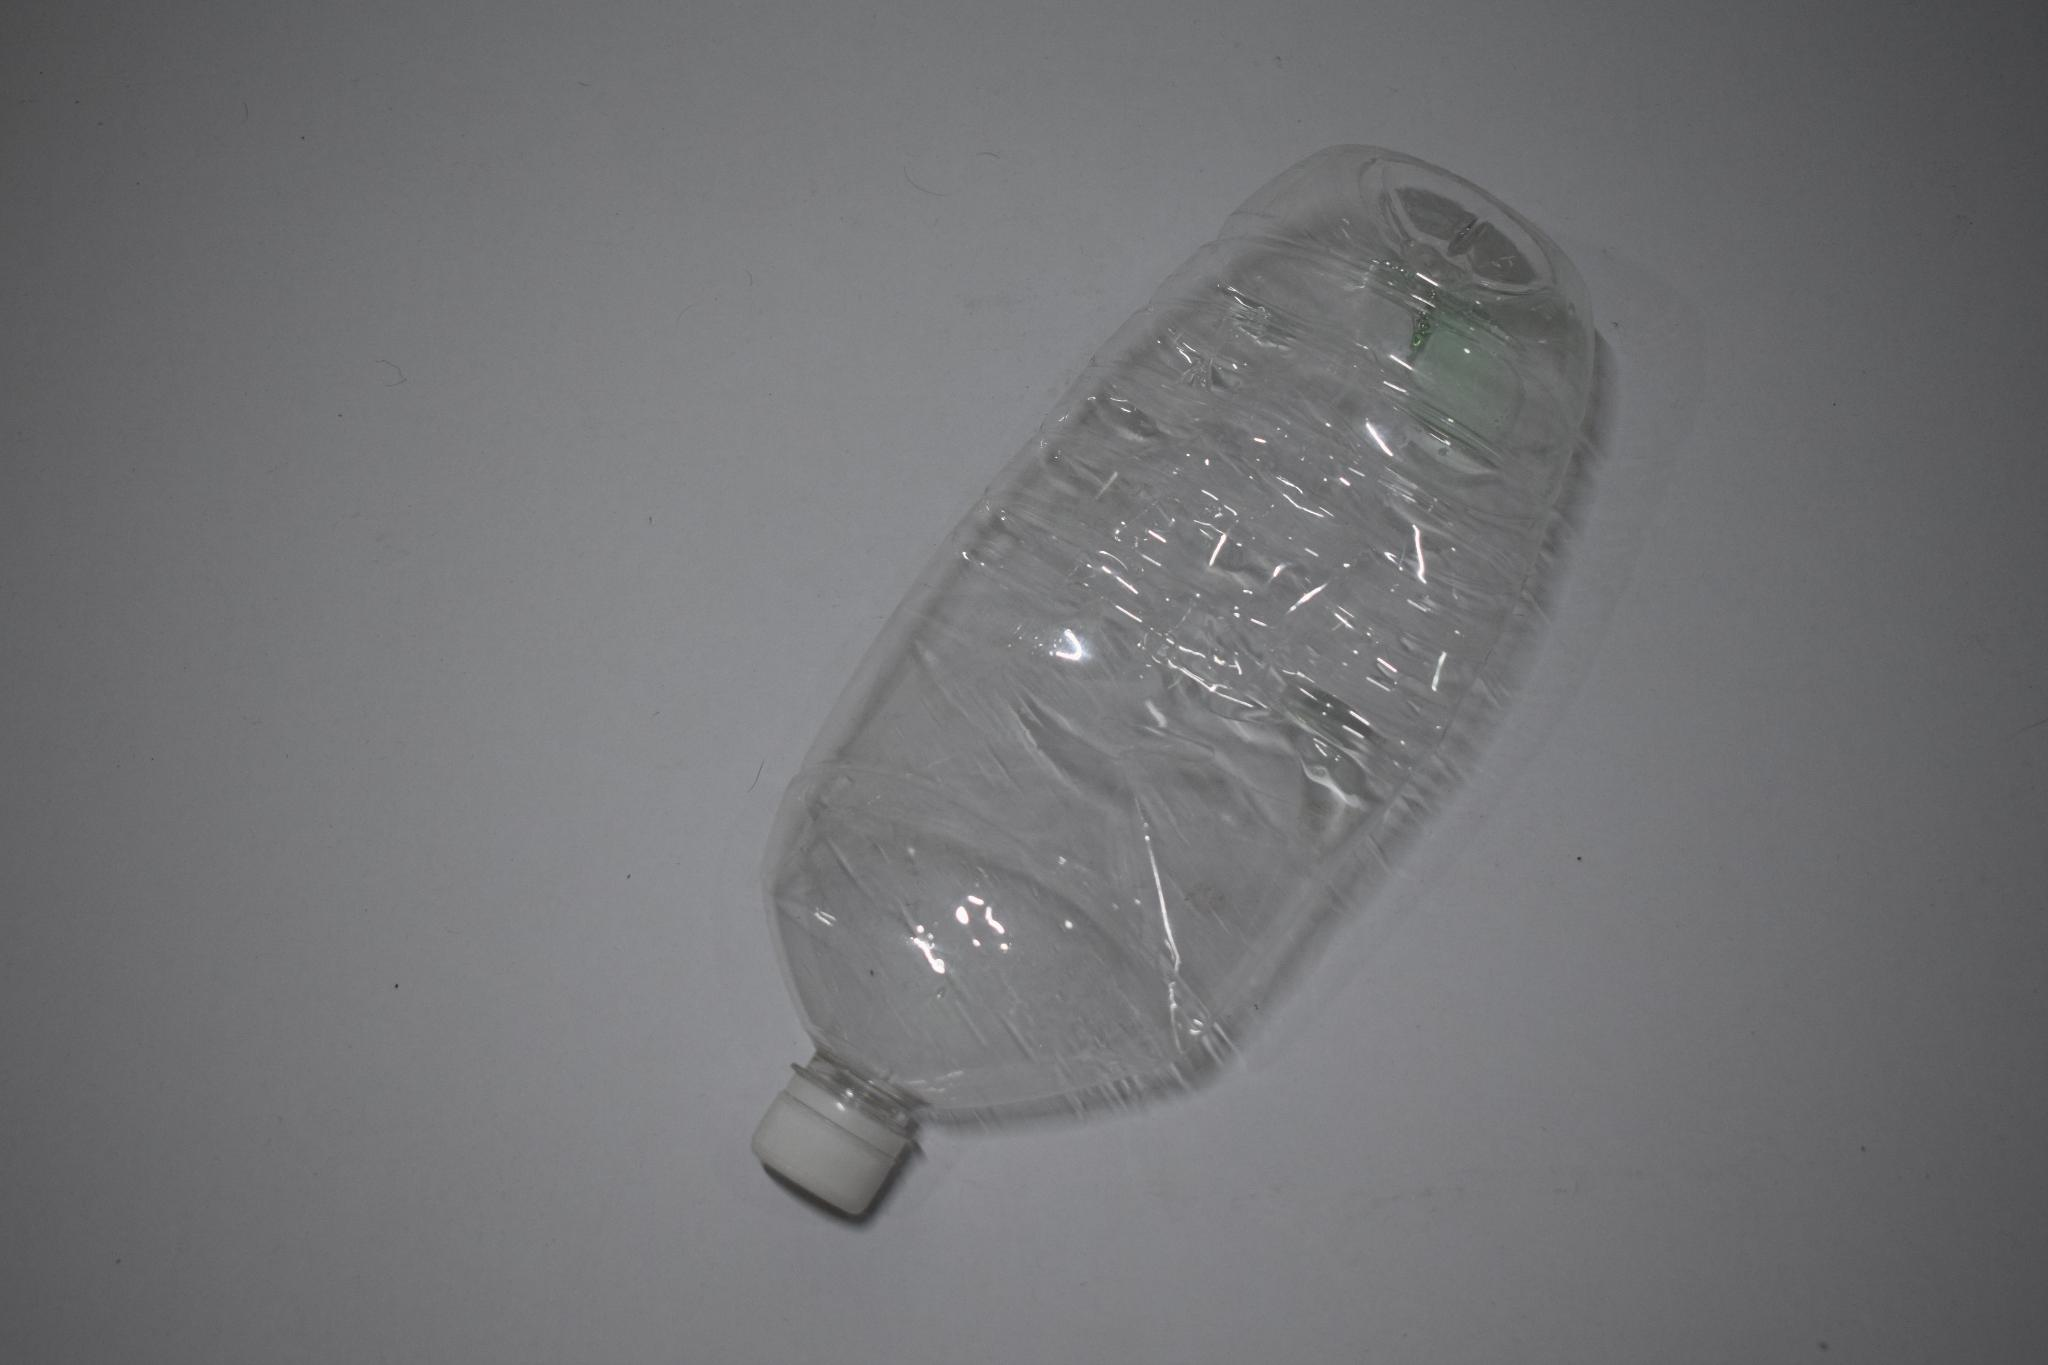bottle: (742, 147, 1624, 1254)
